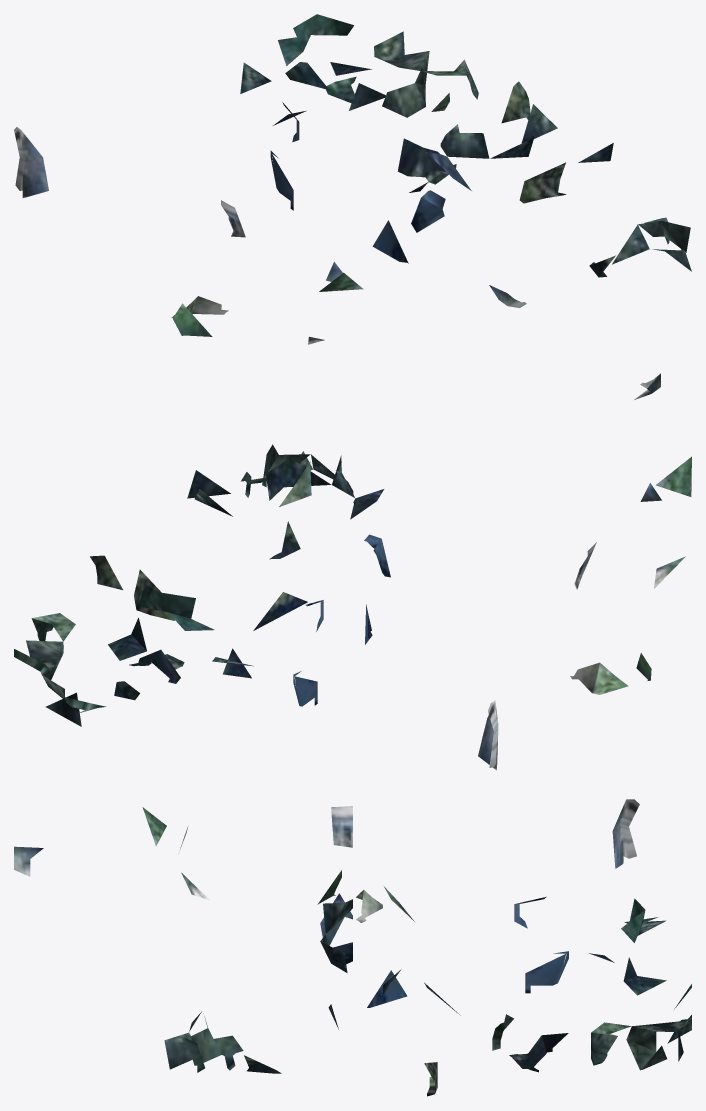
3 renders of one model, top to bottom at view 1: azimuth 30°, elevation 25°; view 2: azimuth 150°, elevation 25°; view 3: azimuth 270°, elevation 25°, orthographic. The views are drawn at different scales.
Parts seen in each view (by area): view 1: 30436272704370414726_1; view 2: 30436272704370414726_1; view 3: 30436272704370414726_1.
Boxes of the visible parts, bbox=[...] form: 30436272704370414726_1: bbox=[14, 14, 691, 344]; 30436272704370414726_1: bbox=[14, 373, 691, 770]; 30436272704370414726_1: bbox=[14, 799, 691, 1096].
Size of the model in its own units: 27.47 by 9.1 by 38.26.
1 material, 1 textured.
